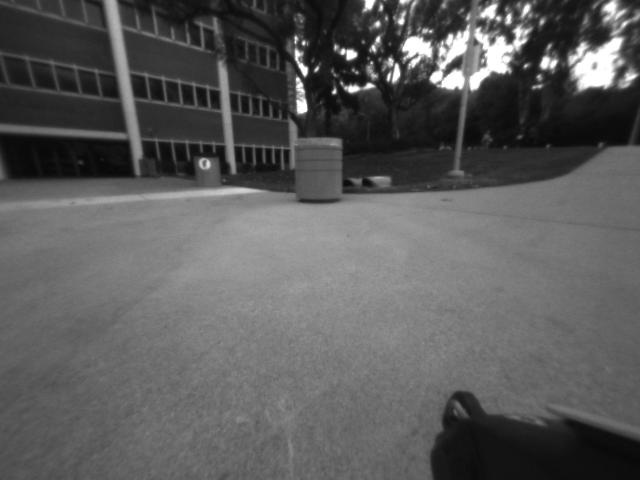trashcan: (293, 131, 341, 207), (192, 146, 228, 188)
